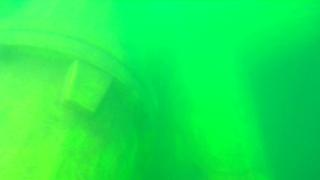pipe: (1, 1, 183, 179), (171, 29, 276, 180), (175, 1, 320, 49)
